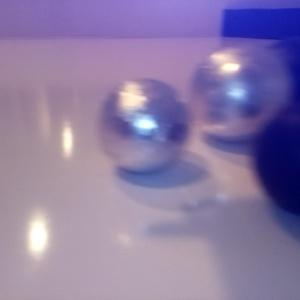alive_ball: (193, 46, 292, 142), (99, 78, 190, 175)
dead_ball: (251, 105, 300, 214), (255, 38, 300, 107)
